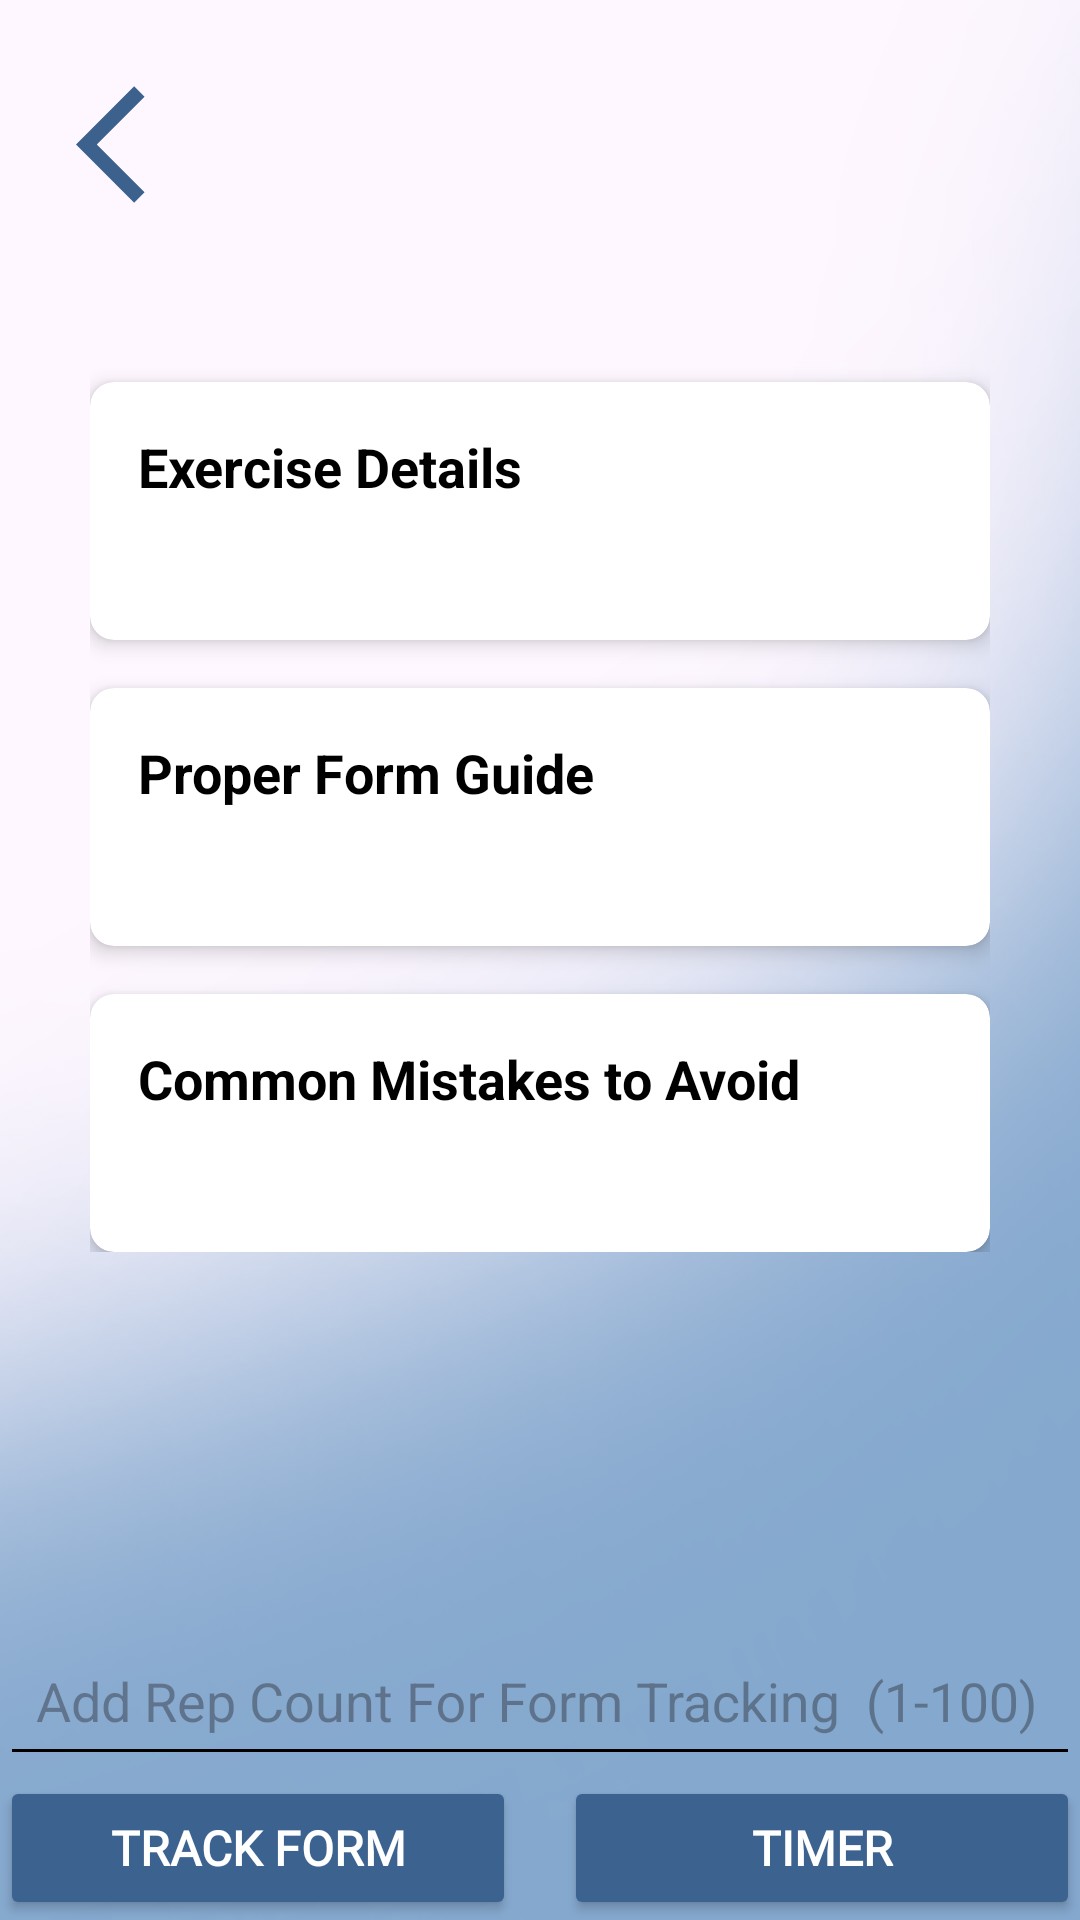

Screen size 1080x1920. Icon name, then its center in pixels as [x,y]:
arrow back: [110,144]
